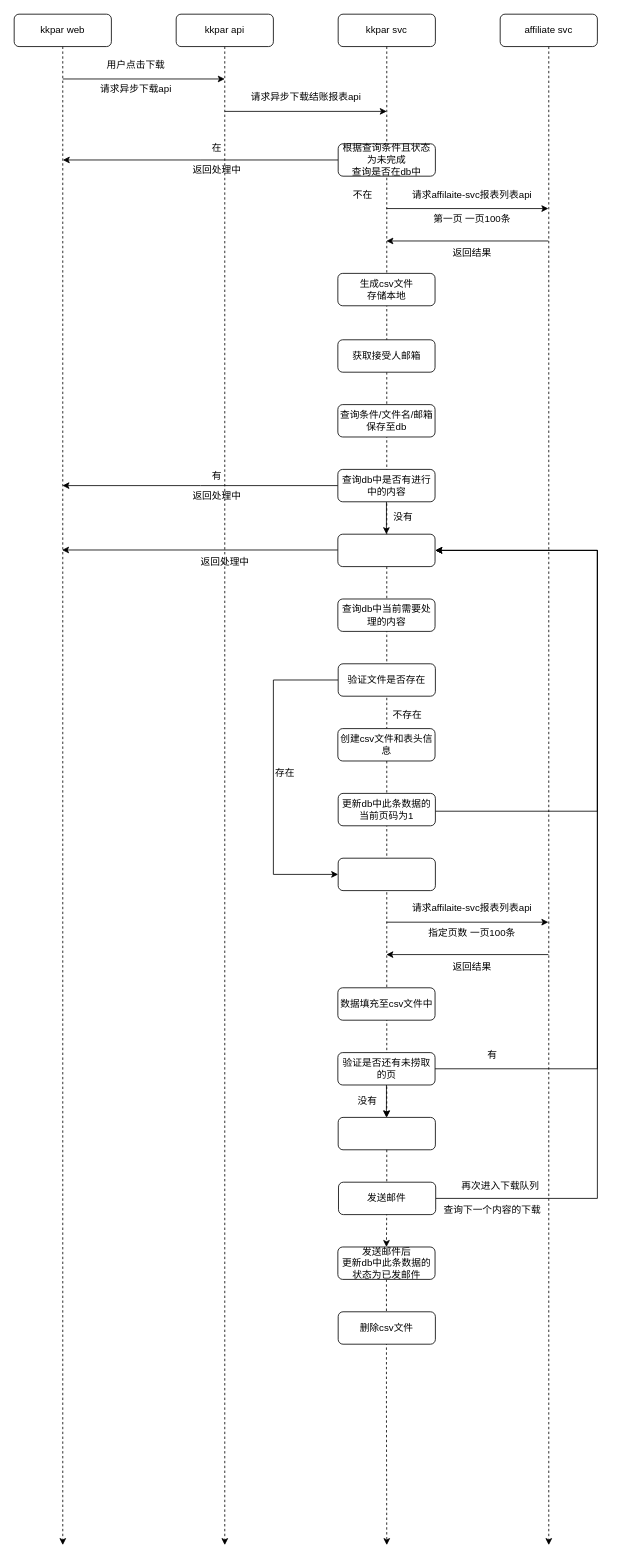
Image size: 618x1566. Some labels were removed from this diagram. Each missing label, with the box of its shape:
更新此条内容的状态为处理成功: (337, 1117, 435, 1150)
组装查询条件和页码: (337, 857, 435, 891)
进入下载队列: (337, 533, 435, 567)
